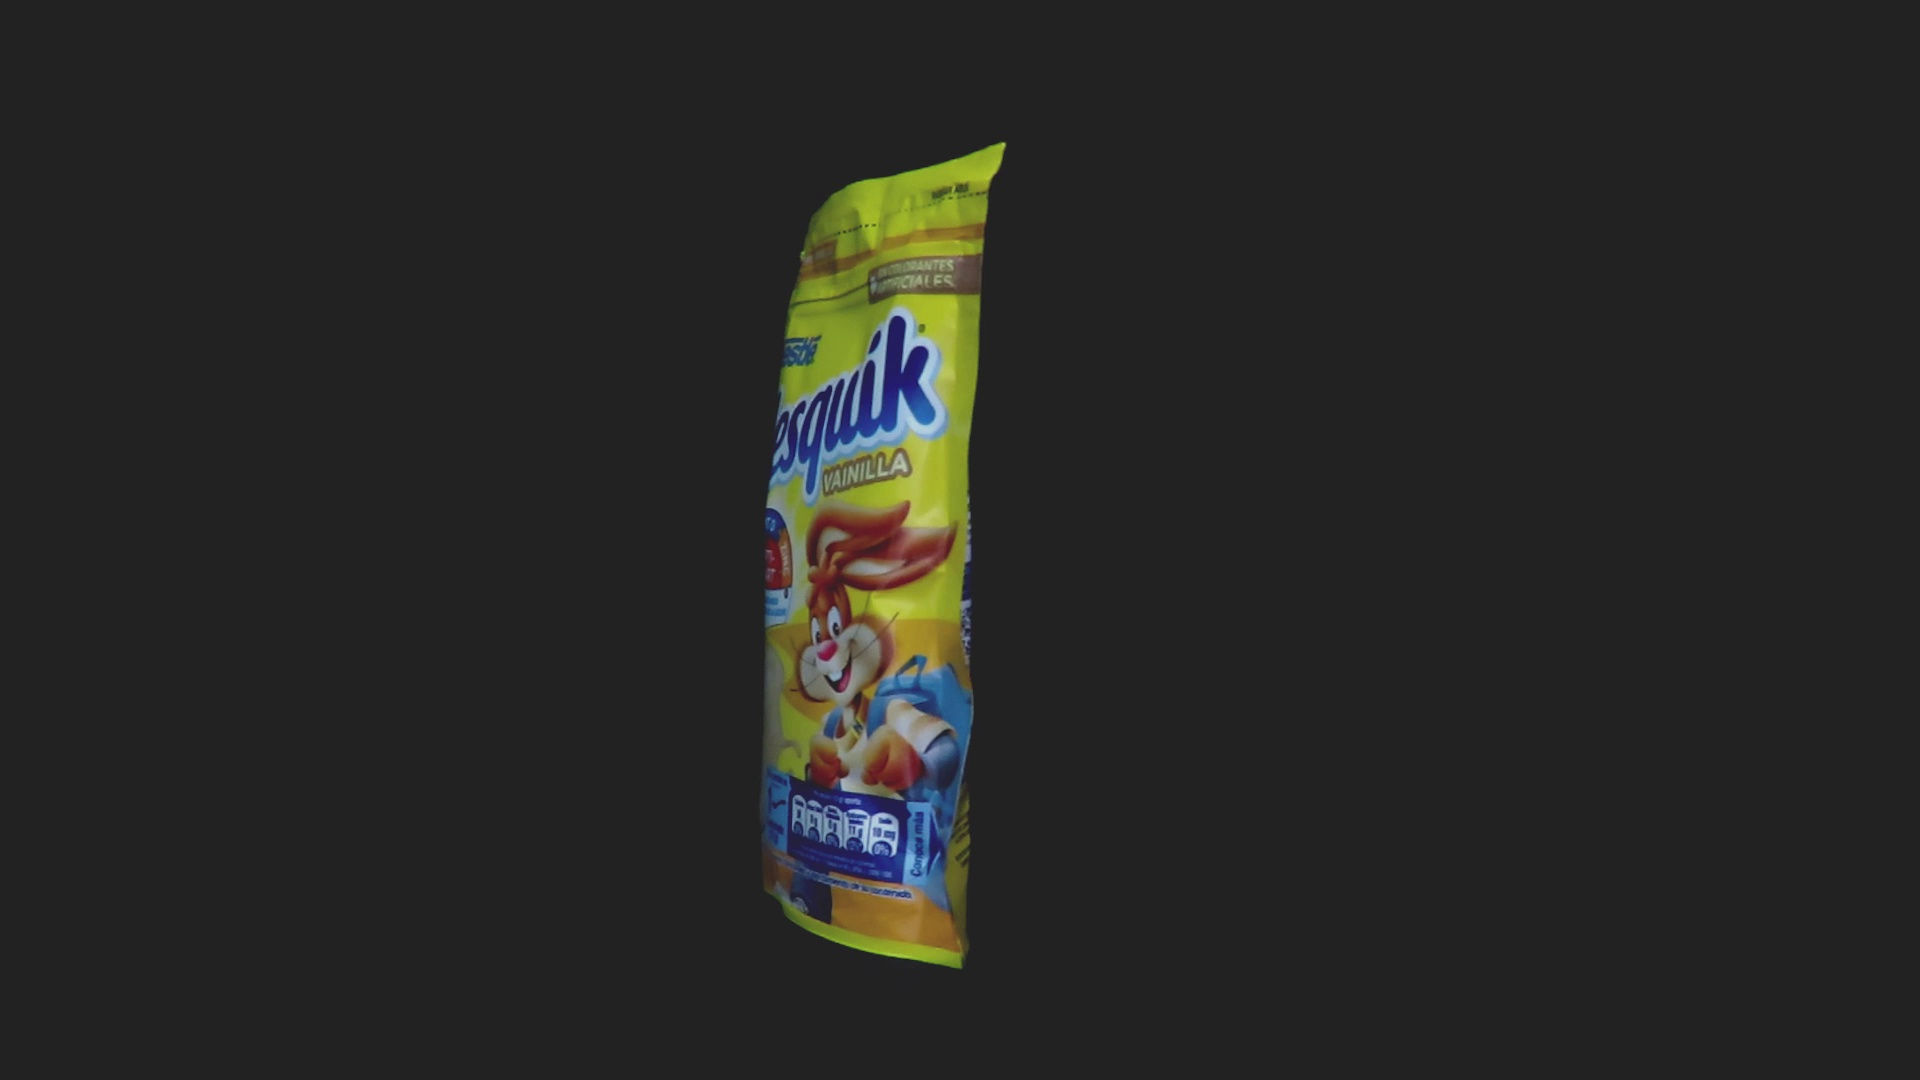COL0170306DYP20000: (754, 137, 1011, 975)
